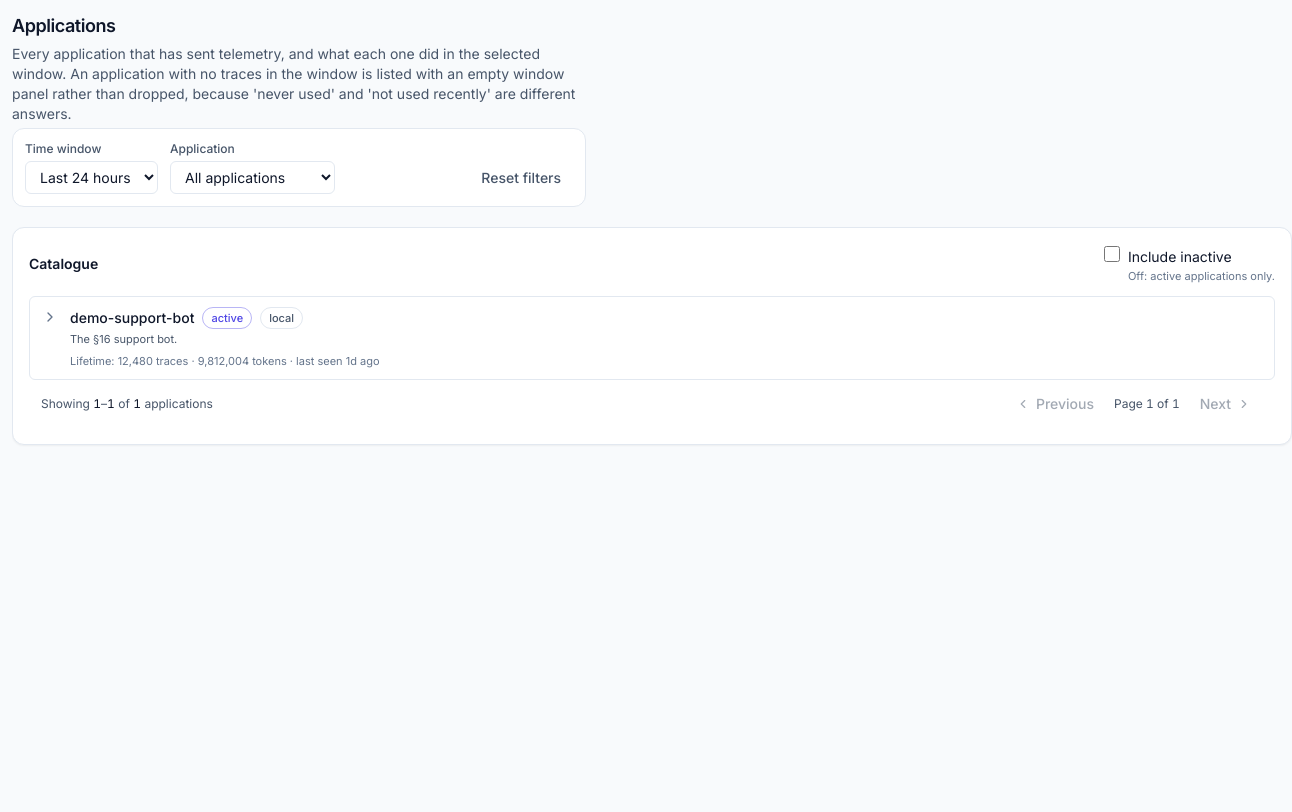
Scenario: ApplicationsPage › says a quiet window is missing data rather than an unused application
Click the text "demo-support-bot". click: (132, 318)
box: 70,308 -> 194,328
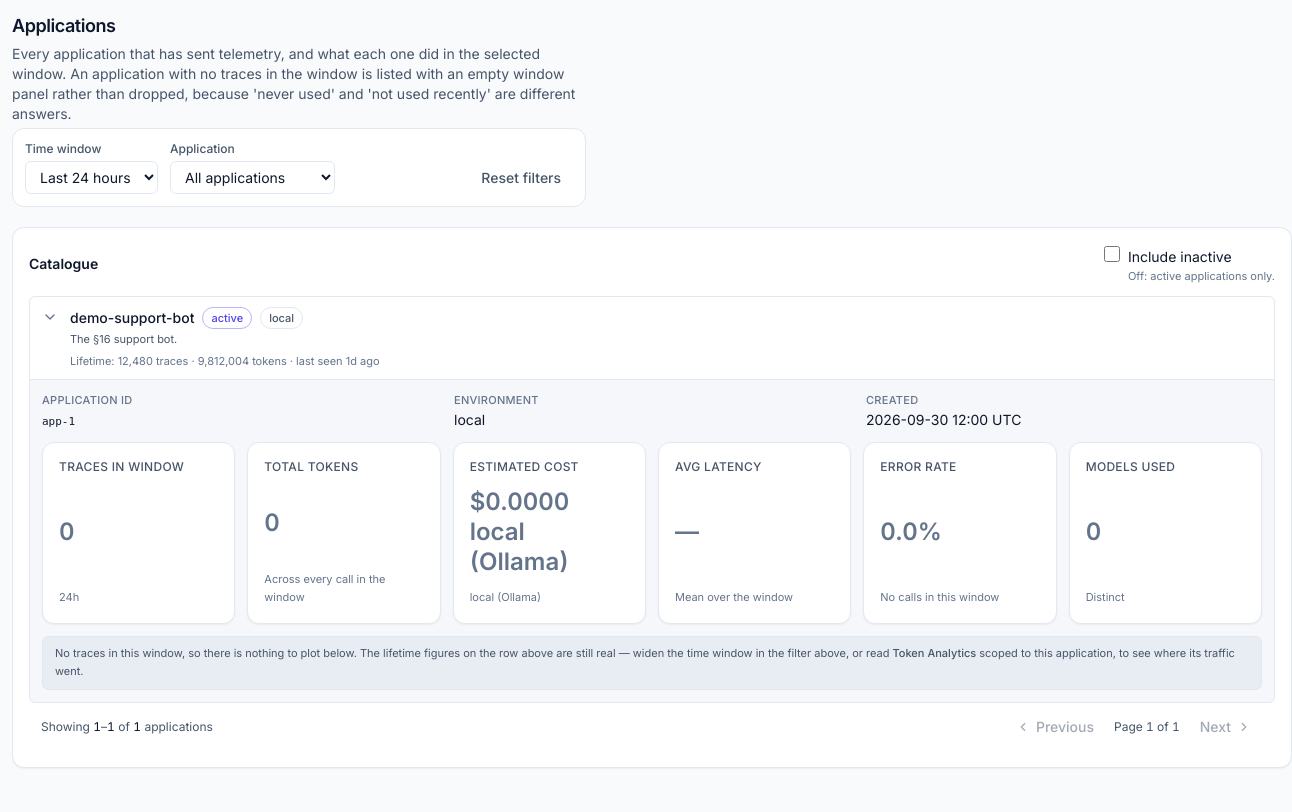
Expected: the text "Lifetime:" is shown, 70,354 -> 118,368
Expected: the text "No traces in this window" is shown, 55,646 -> 889,660
